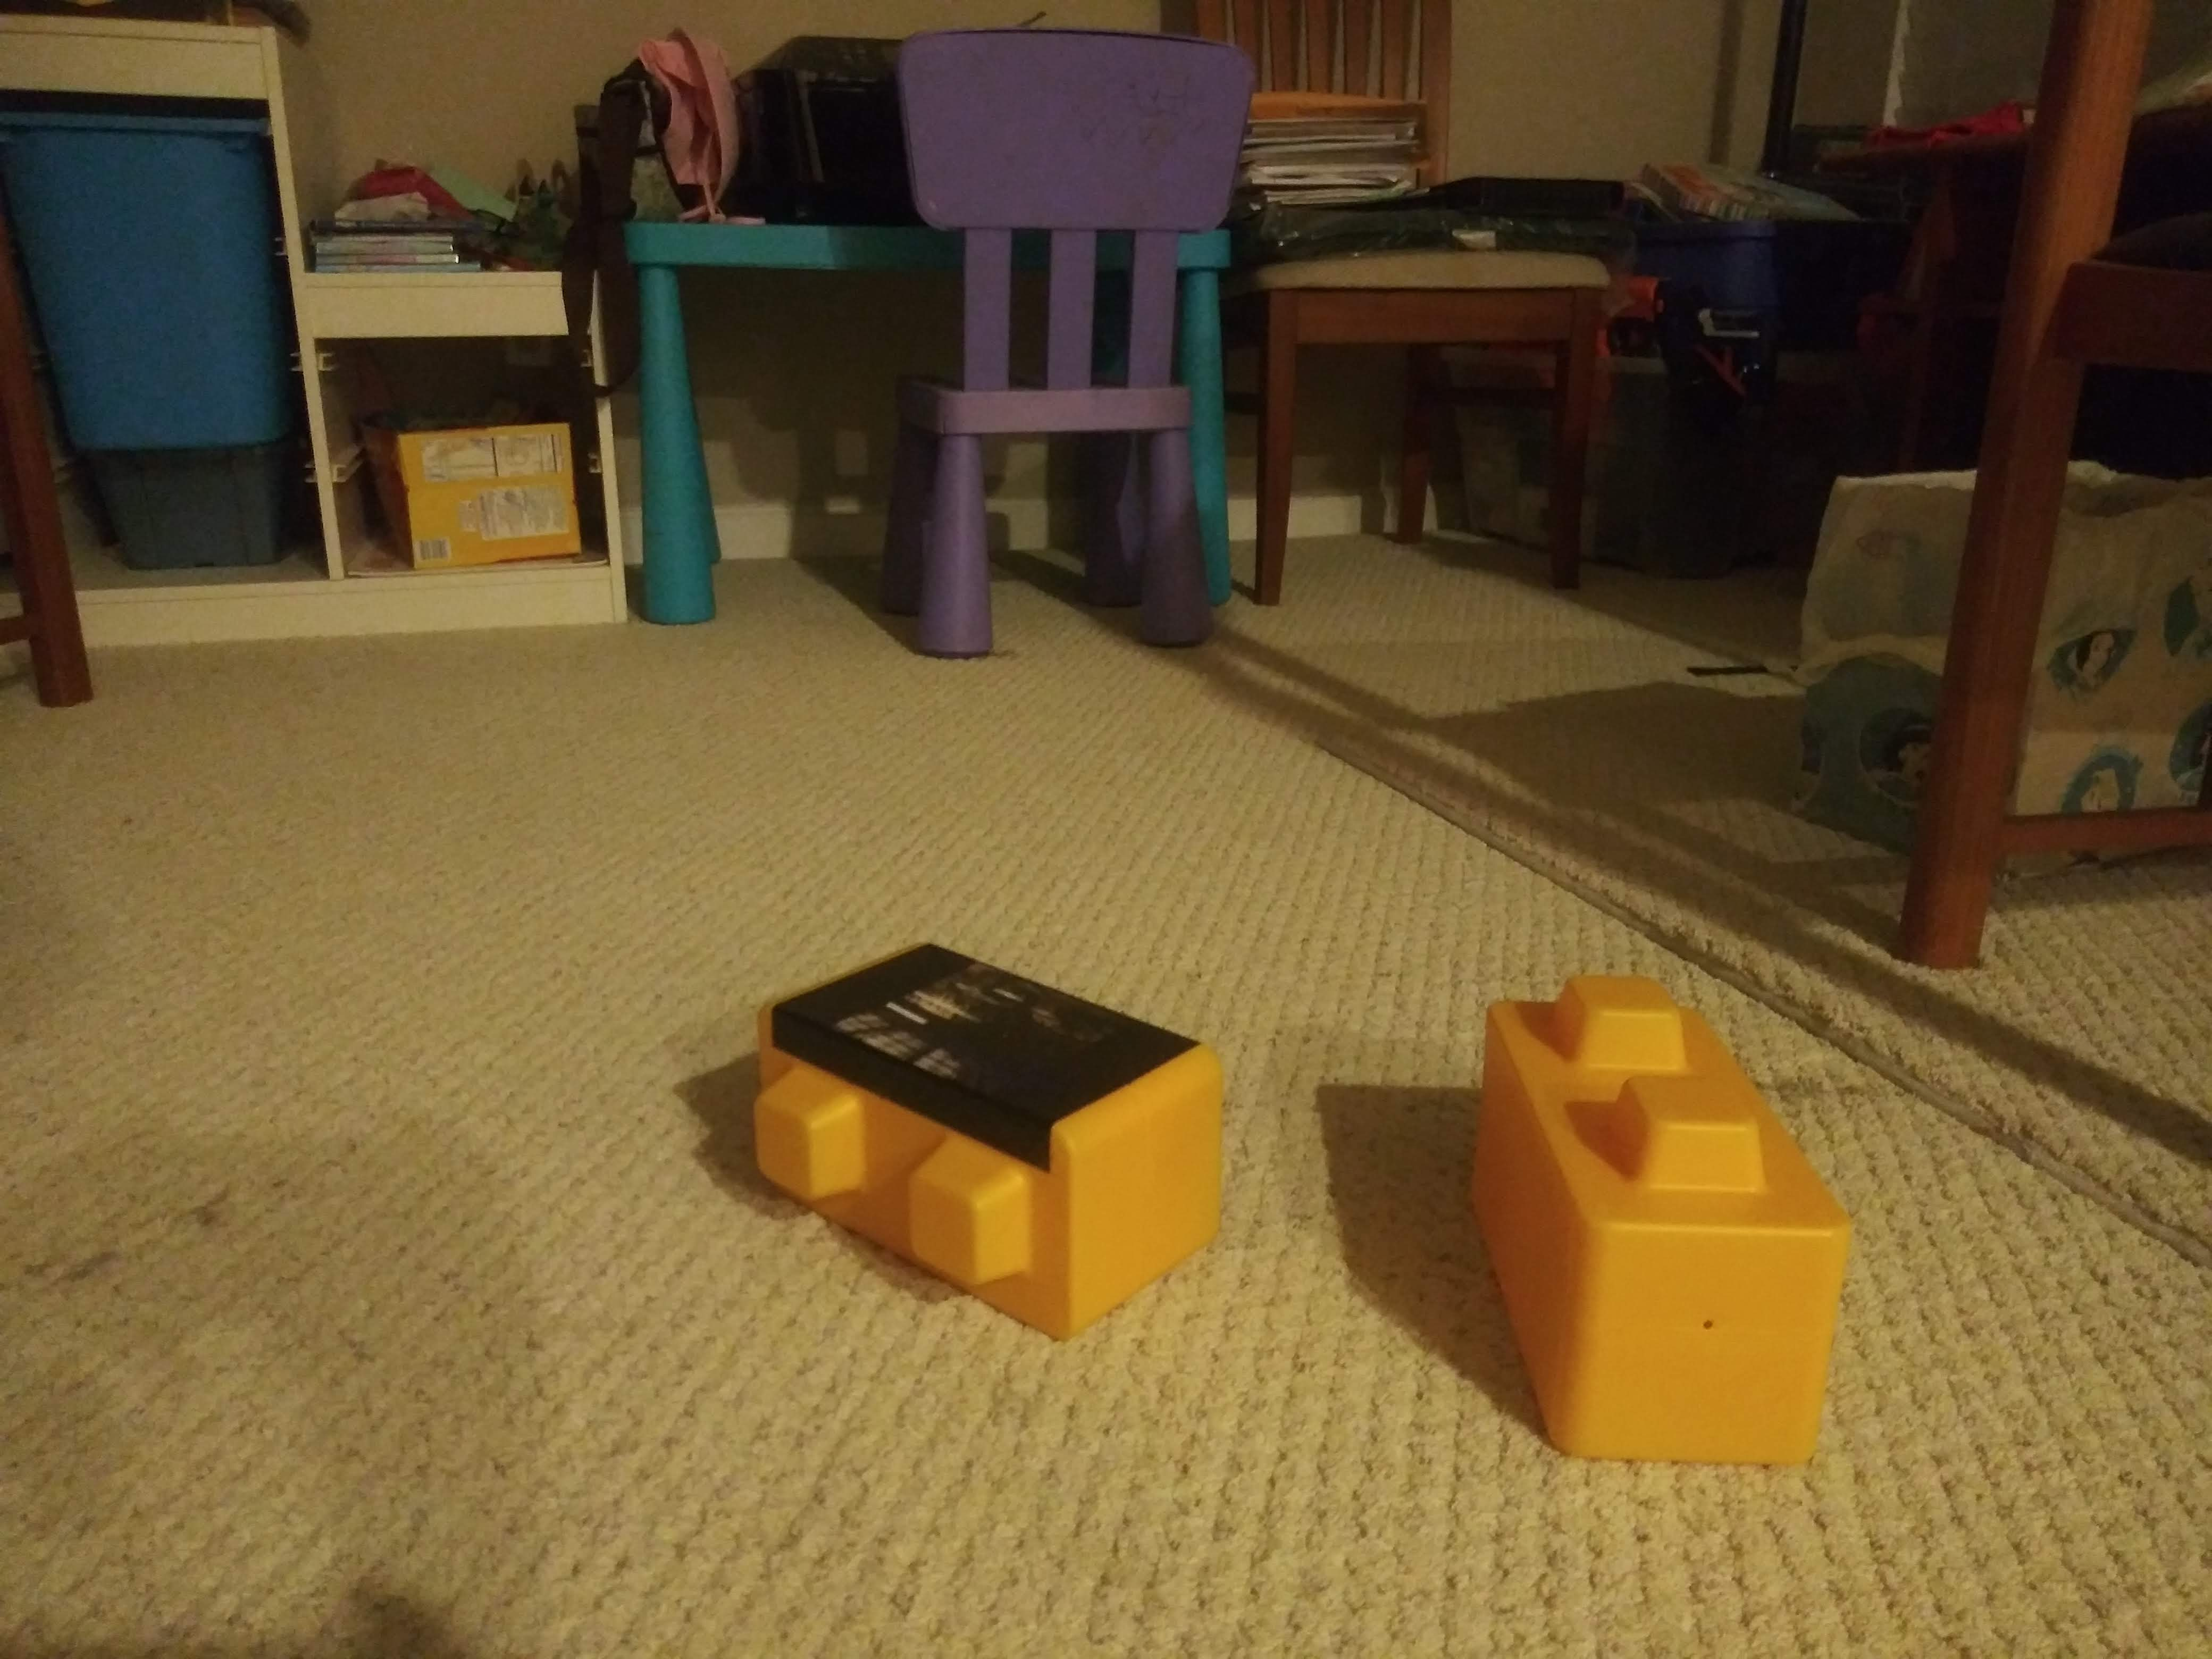skystone: (770, 962, 1211, 1298)
stone: (1486, 988, 1838, 1462)
